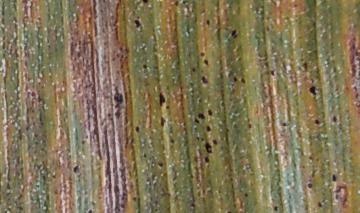tarspot: (112, 85, 124, 121), (132, 15, 143, 30), (157, 91, 166, 108), (307, 84, 317, 98), (158, 114, 167, 129), (300, 61, 309, 72), (311, 167, 319, 179), (264, 23, 273, 33), (200, 74, 208, 85), (204, 142, 211, 154), (312, 117, 321, 126), (197, 112, 206, 121), (202, 155, 211, 163), (72, 164, 80, 173), (230, 29, 237, 39), (331, 114, 338, 124), (211, 138, 219, 146), (269, 69, 277, 77), (239, 77, 247, 85), (207, 108, 214, 117), (205, 124, 212, 133), (331, 172, 337, 182), (135, 124, 141, 134), (204, 18, 211, 26), (190, 66, 197, 74), (156, 161, 164, 168), (169, 137, 176, 145), (232, 121, 239, 129), (292, 160, 298, 169), (199, 50, 206, 57), (281, 121, 288, 128), (203, 58, 209, 66), (232, 76, 238, 84), (189, 201, 195, 209), (317, 200, 322, 209), (220, 100, 225, 109), (195, 134, 200, 143), (307, 182, 313, 189), (142, 62, 148, 69), (141, 152, 148, 158), (224, 127, 230, 134), (196, 97, 203, 103), (80, 139, 86, 146), (173, 1, 180, 7), (132, 194, 137, 202), (247, 123, 252, 131), (181, 1, 187, 7), (301, 164, 307, 170), (85, 134, 90, 141), (307, 155, 314, 160), (141, 1, 149, 5), (86, 209, 94, 213), (273, 206, 278, 212), (243, 192, 249, 197), (193, 117, 197, 124), (200, 137, 205, 142), (226, 210, 233, 213)
